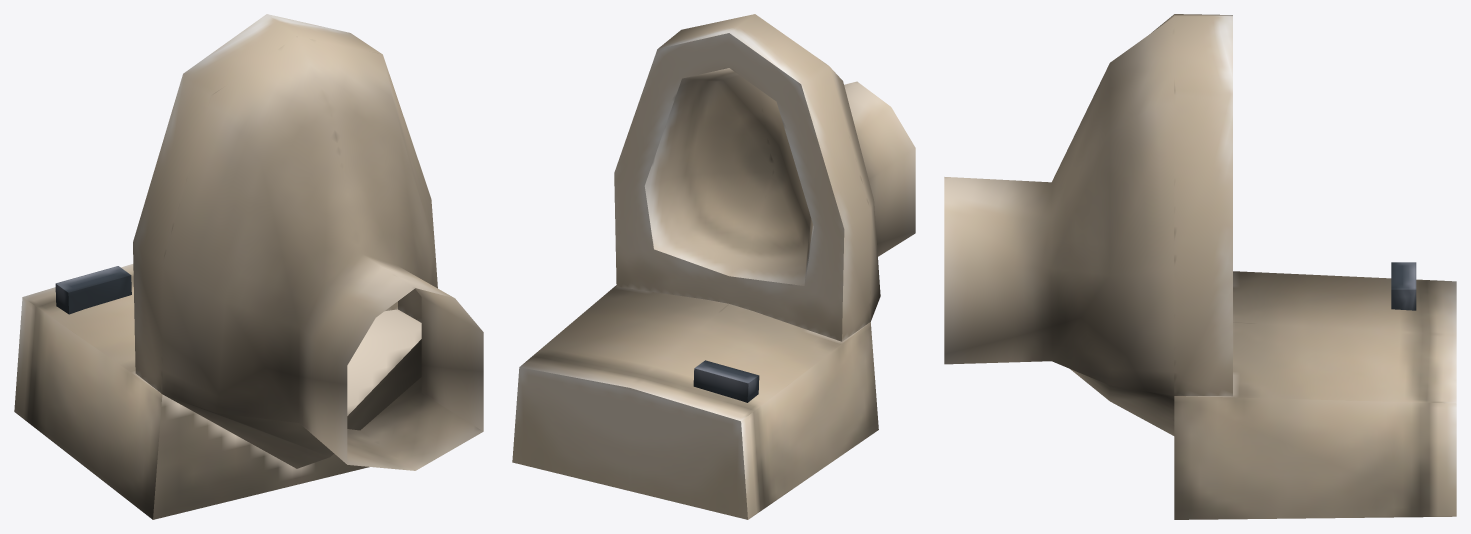
File: props_toilet.fbx
3 renders of one model, left to right at view 1: azimuth 30°, elevation 25°; view 2: azimuth 150°, elevation 25°; view 3: azimuth 270°, elevation 25°, orthographic. The views are drawn at different scales.
Parts seen in each view (by area): view 1: toilet; view 2: toilet; view 3: toilet.
Part boxes in pixels (x1,y1,x2,y2): toilet: (14,14,483,519); toilet: (512,14,915,519); toilet: (944,14,1456,519).
Bounding box in the file's own units: 0.6327 × 0.9426 × 1.01.
1 material, 1 textured.
